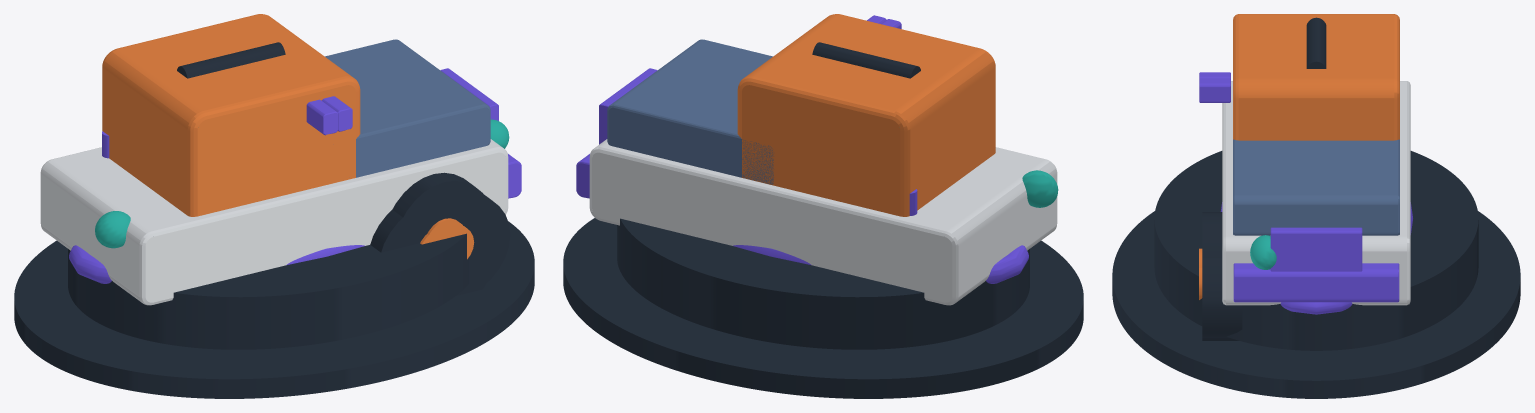
The model's file is 1133_左传_楚军致师战车.glb.
3 renders of one model, left to right at view 1: azimuth 30°, elevation 25°; view 2: azimuth 150°, elevation 25°; view 3: azimuth 270°, elevation 25°, orthographic. The views are drawn at different scales.
Visible parts, largest first — view 1: card_1133; view 2: card_1133; view 3: card_1133.
Boxes of the visible parts, left/top/right/bottom form: card_1133: left=14, top=14, right=534, bottom=398; card_1133: left=563, top=14, right=1083, bottom=398; card_1133: left=1112, top=14, right=1520, bottom=398.
Size of the model in its own units: 1.92 by 1 by 1.57.
